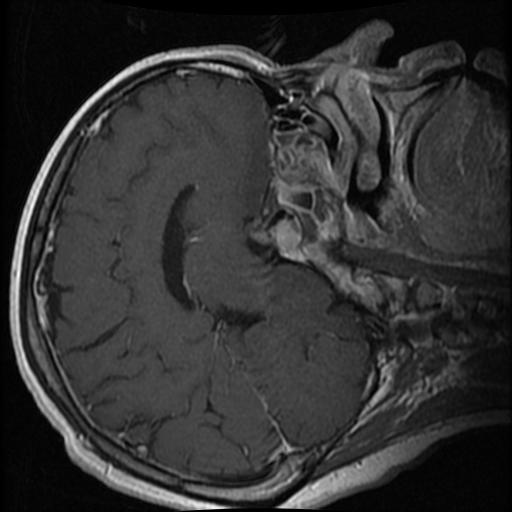pituitary tumour: (265, 216, 305, 263)
